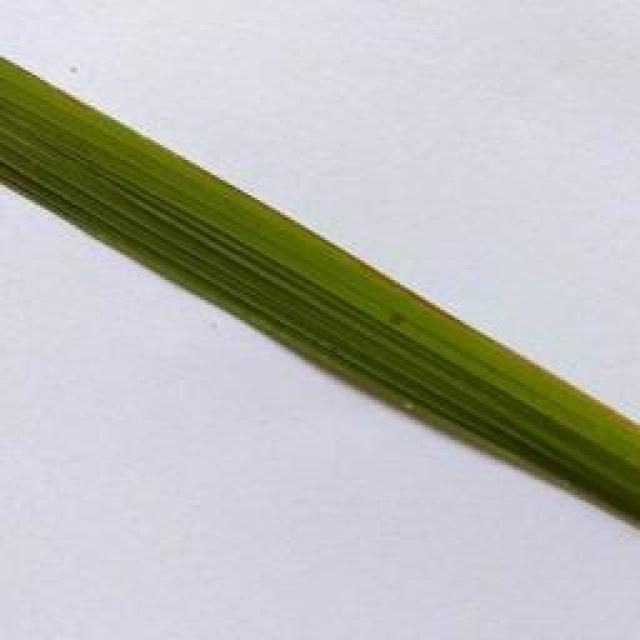Healthy-Plant: (0, 40, 362, 357), (432, 341, 640, 553)
